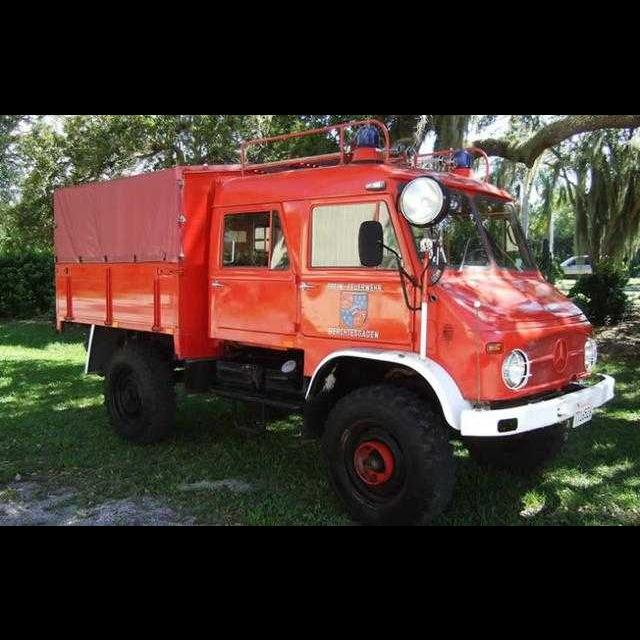emergency: (50, 117, 614, 519)
